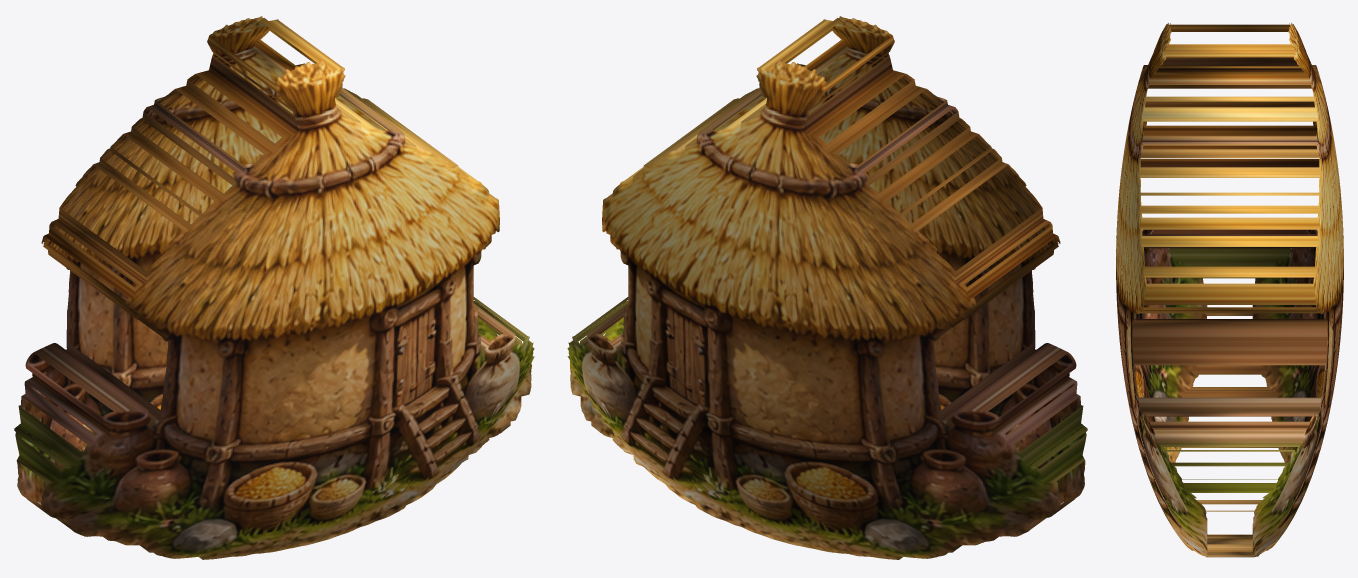
3 renders of one model, left to right at view 1: azimuth 30°, elevation 25°; view 2: azimuth 150°, elevation 25°; view 3: azimuth 270°, elevation 25°, orthographic. The views are drawn at different scales.
Visible parts, largest first — view 1: villages:1; view 2: villages:1; view 3: villages:1.
Boxes of the visible parts, box(x1,y1,x2,y2) form: villages:1: box(14, 16, 534, 559); villages:1: box(567, 16, 1087, 559); villages:1: box(1116, 22, 1343, 557).
Bounding box in the file's own units: 1.02 × 0.9556 × 0.4199.
Materials: 1 (1 with a texture image).
